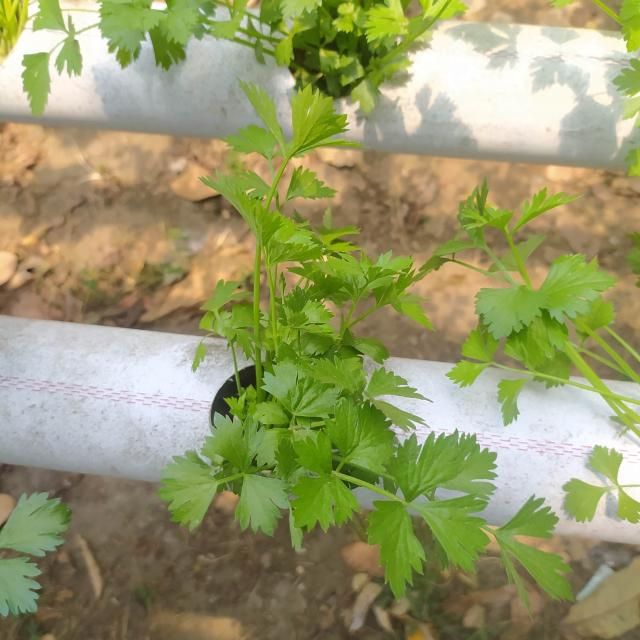Wet Waste: (246, 195, 600, 476)
